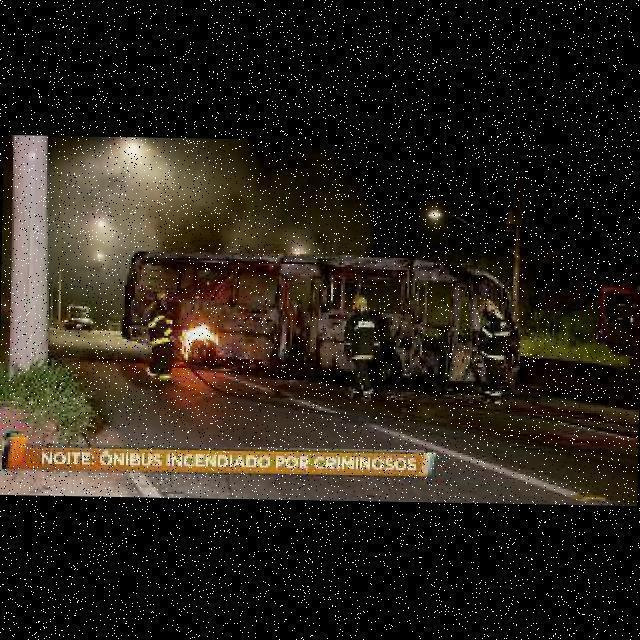Fire: (175, 322, 218, 362)
Smoke: (112, 165, 248, 262)
